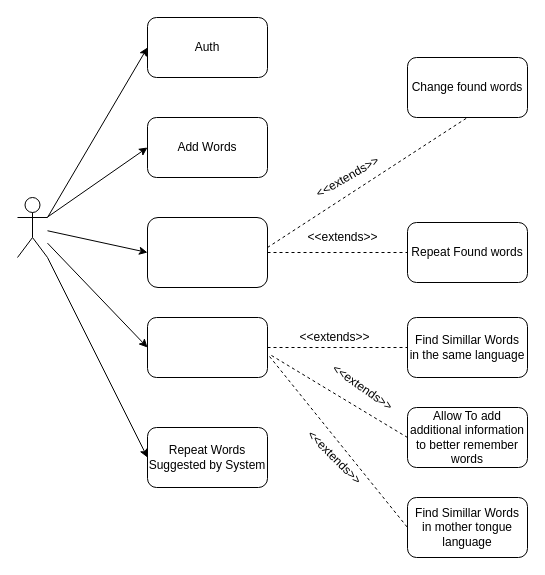
The diagram is 545 pixels wide and 575 high, and some of its shapes have lost their labels. The shapes that lost their labels are listed below. From the top down, each one's centre as x and y in pixels, then its label:
[32,227]: User
[207,252]: Search For Words with "tags", "approximate content" or "text name"
[207,347]: Learn Words
